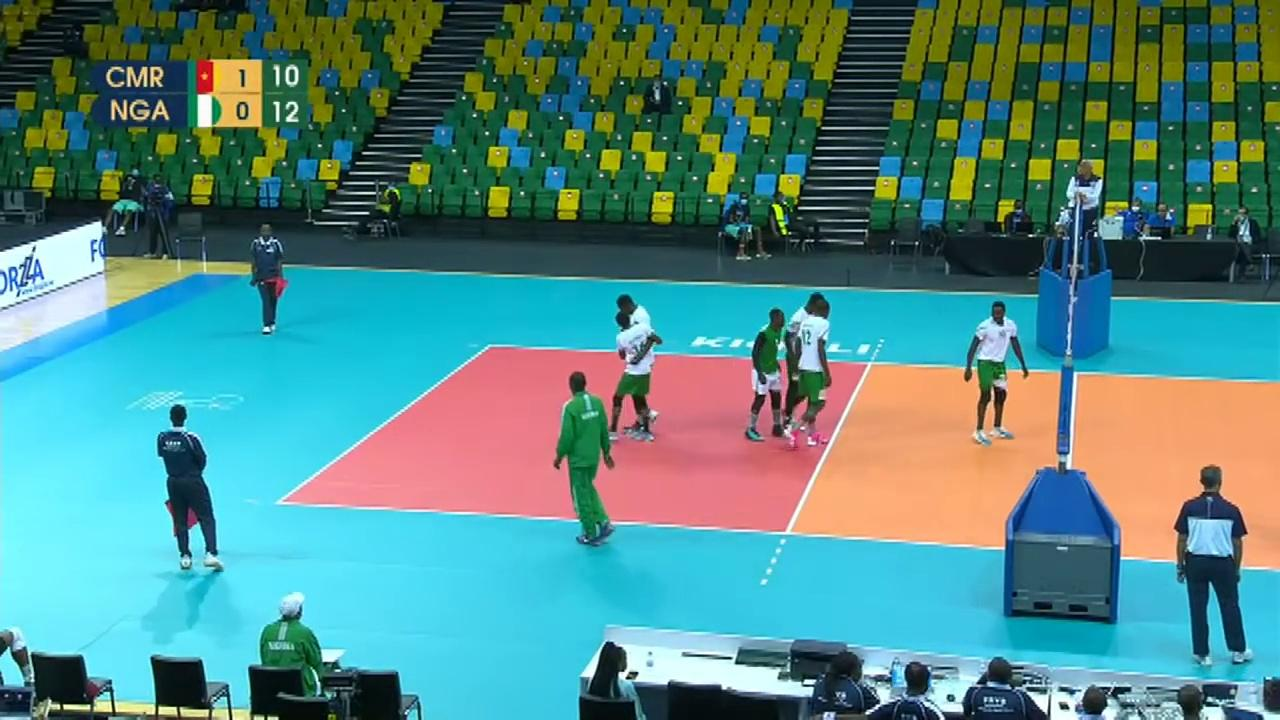player: (966, 303, 1027, 439), (789, 299, 838, 446), (784, 289, 831, 433), (609, 311, 656, 447), (742, 305, 789, 440), (613, 292, 660, 421)
refree: (1174, 468, 1254, 663), (152, 408, 221, 568), (1065, 156, 1105, 269), (249, 224, 287, 334)
